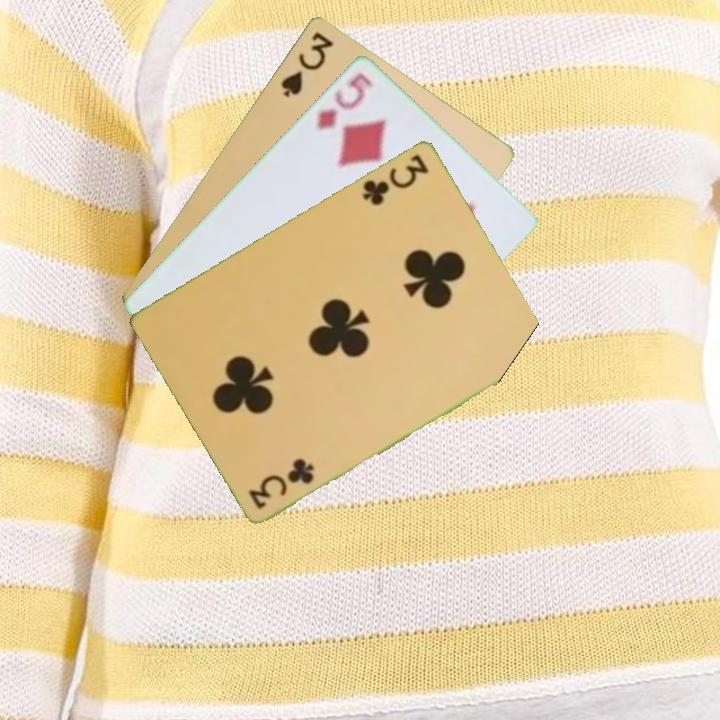3c: (358, 150, 432, 208), (245, 455, 317, 512)
3s: (277, 27, 337, 100)
5d: (312, 68, 377, 133)
